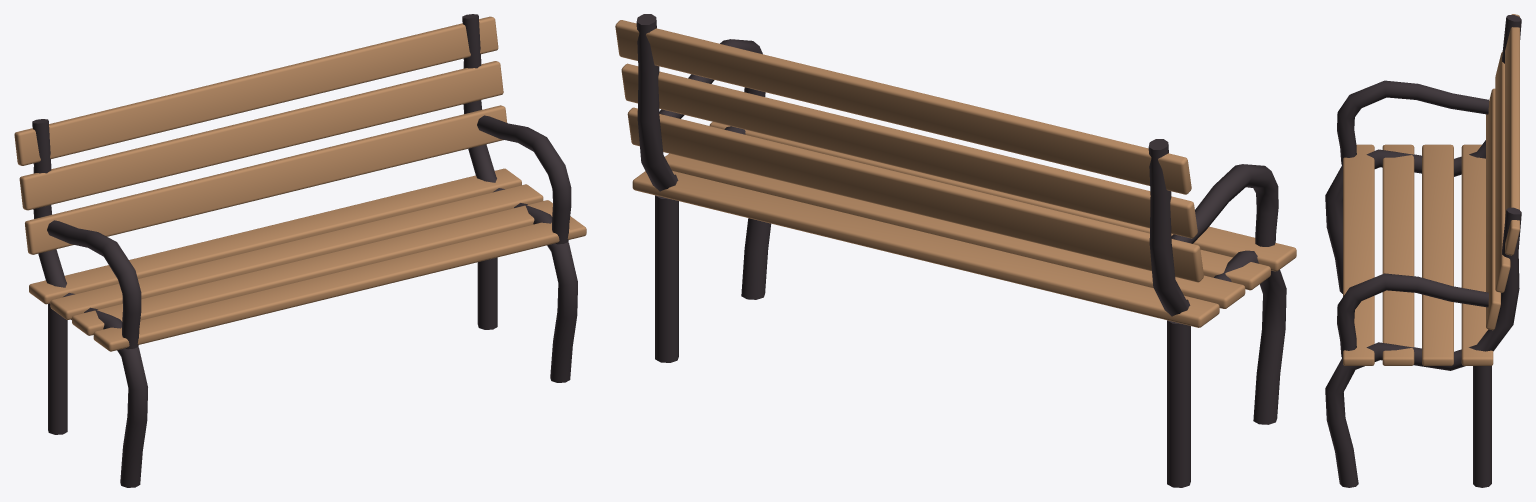
Rendered from plaza_bench.glb.
The picture shows the model from 3 angles, left to right: view 1: azimuth 30°, elevation 25°; view 2: azimuth 150°, elevation 25°; view 3: azimuth 270°, elevation 25°; orthographic projection. The views are drawn at different scales.
Parts seen in each view (by area): view 1: Cube; view 2: Cube; view 3: Cube.
Boxes of the visible parts, x1,y1,x2,y2 form: Cube: (14,14,586,487); Cube: (615,14,1296,487); Cube: (1325,14,1521,487).
Bounding box in the file's own units: 1.6 × 0.955 × 0.6204.
